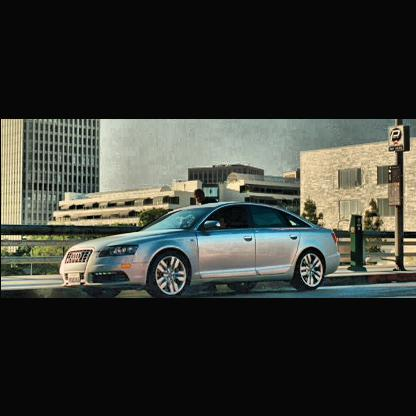Audi S6 Sedan 2011: (59, 202, 342, 296)
